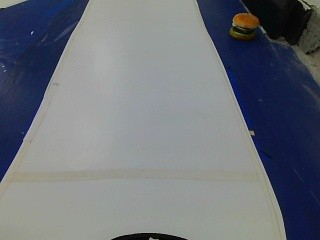burger: (222, 8, 265, 45)
